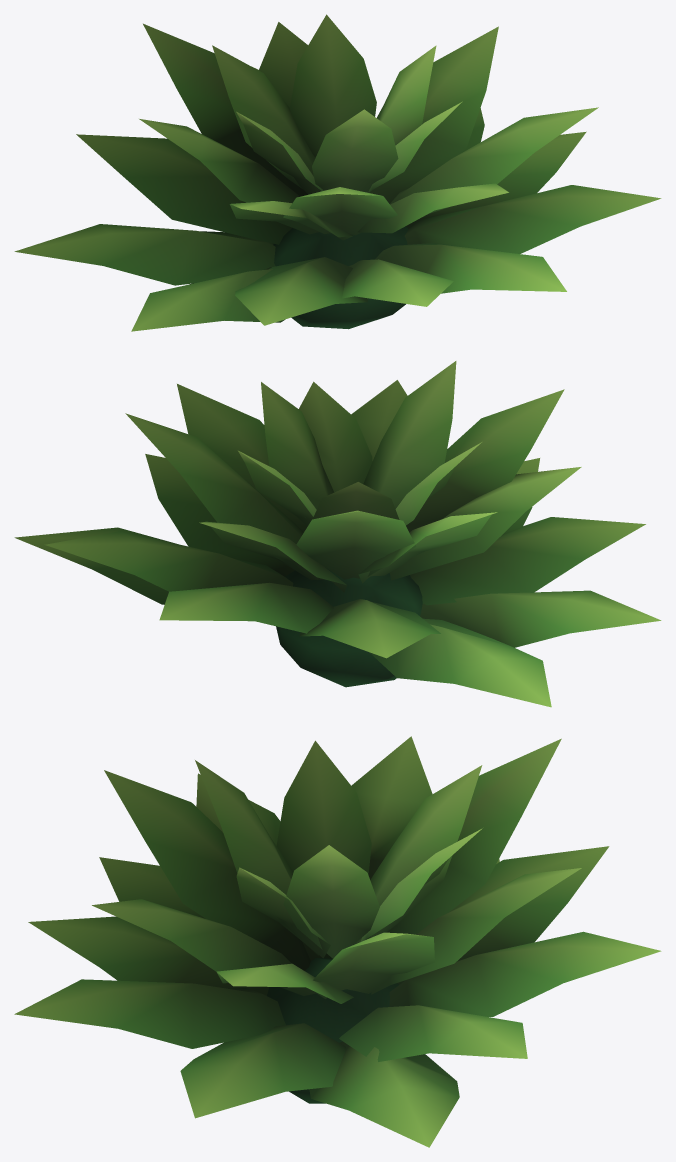
File: deco-bush-v1.glb
3 views of the same model, one above another, from view 1: azimuth 30°, elevation 25°; view 2: azimuth 150°, elevation 25°; view 3: azimuth 270°, elevation 25° (orthographic). The views are drawn at different scales.
Parts seen in each view (by area): view 1: 0_bush; view 2: 0_bush; view 3: 0_bush.
Part boxes in pixels (x1,y1,x2,y2): 0_bush: (14, 14, 661, 331); 0_bush: (14, 361, 661, 707); 0_bush: (14, 736, 661, 1147).
Bounding box in the file's own units: 2.25 × 1.04 × 1.99.
